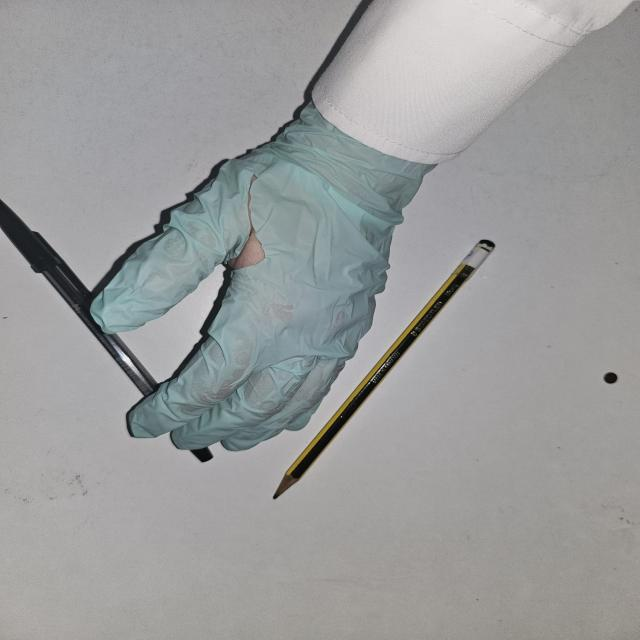gloves_damaged: (87, 88, 441, 455)
